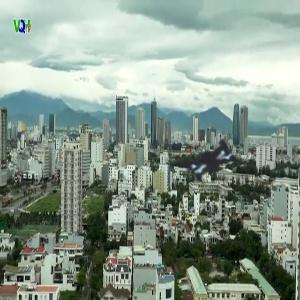drone: (140, 89, 278, 227)
